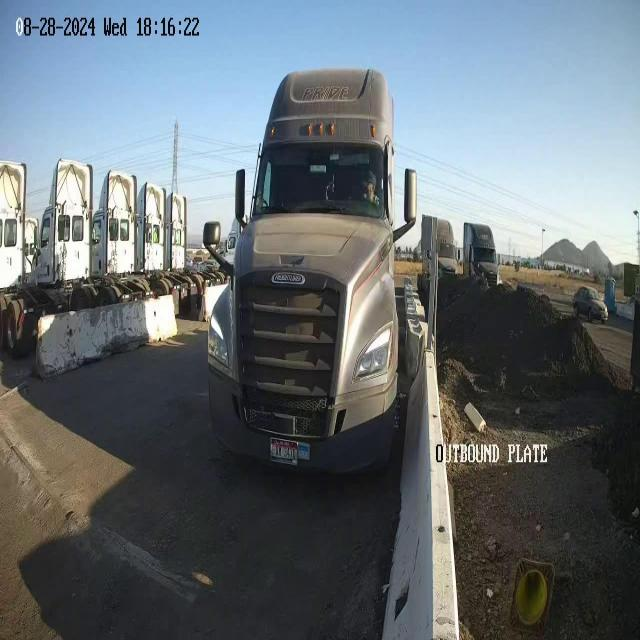TRUCK_OUT: (202, 66, 420, 477)
